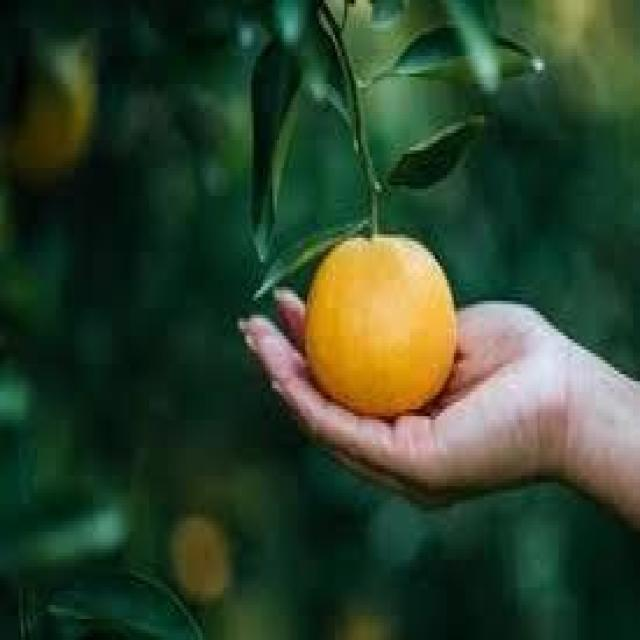fruit: (306, 224, 472, 436), (168, 510, 231, 602), (33, 68, 95, 160)
